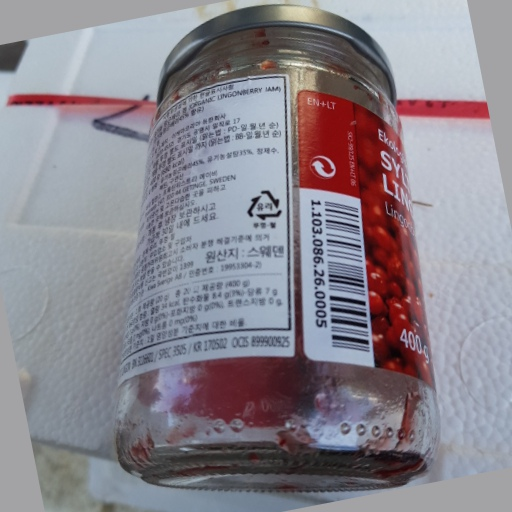Glass_5: (113, 7, 440, 497)
